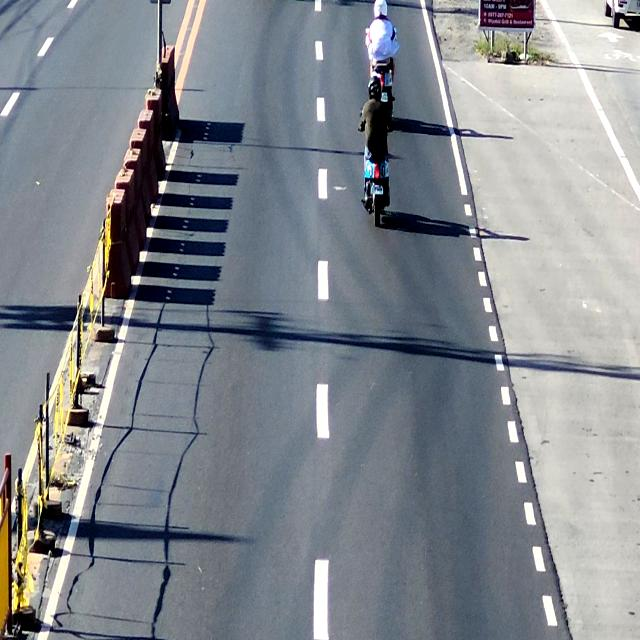Motorcycle: (358, 76, 394, 230), (360, 0, 400, 130)
